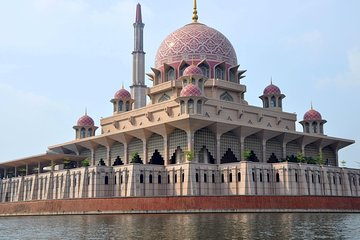Mosque: (12, 3, 348, 205)
